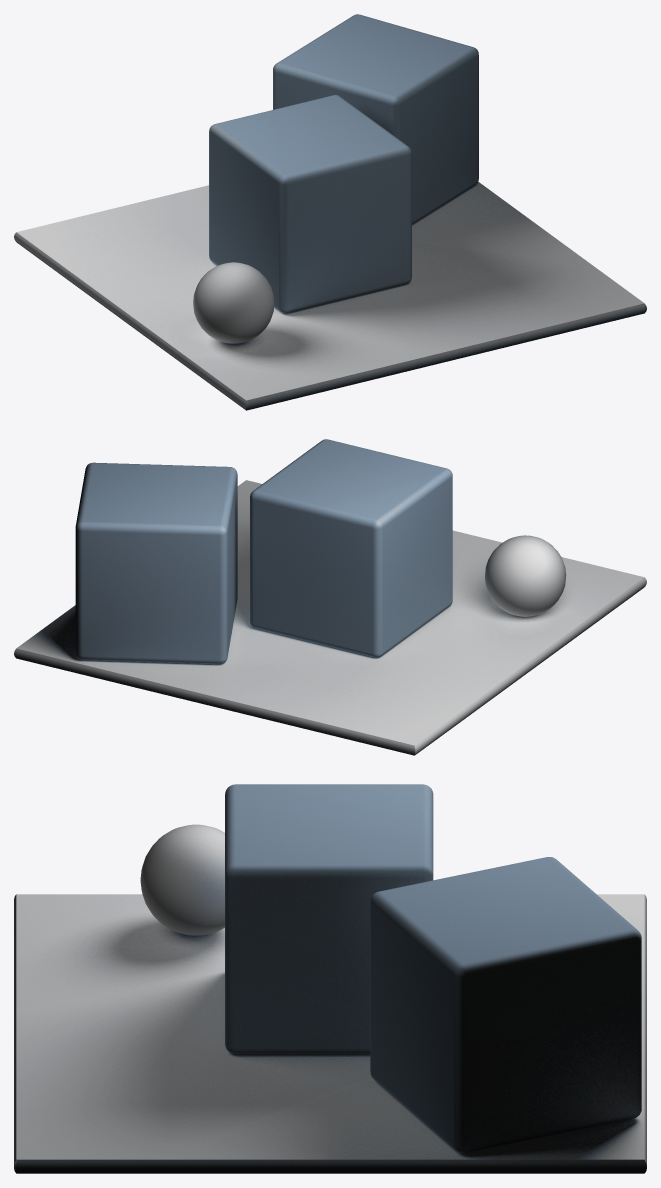
3 renders of one model, top to bottom at view 1: azimuth 30°, elevation 25°; view 2: azimuth 150°, elevation 25°; view 3: azimuth 270°, elevation 25°, orthographic. The views are drawn at different scales.
Parts seen in each view (by area): view 1: Plane, Cube, Cube.001, Sphere; view 2: Plane, Cube, Cube.001, Sphere; view 3: Plane, Cube.001, Cube, Sphere.
Part boxes in pixels (left/top/right/bottom): Plane: left=14, top=182, right=646, bottom=410; Cube: left=209, top=95, right=411, bottom=313; Cube.001: left=273, top=14, right=478, bottom=224; Sphere: left=193, top=262, right=274, bottom=343; Plane: left=14, top=480, right=646, bottom=755; Cube: left=250, top=439, right=452, bottom=657; Cube.001: left=75, top=462, right=237, bottom=664; Sphere: left=485, top=535, right=566, bottom=616; Plane: left=14, top=894, right=646, bottom=1173; Cube.001: left=370, top=857, right=641, bottom=1153; Cube: left=225, top=784, right=433, bottom=1054; Sphere: left=140, top=824, right=224, bottom=935.
Size of the model in its own units: 6.08 by 2.15 by 6.08.
3 materials, 3 textured.
